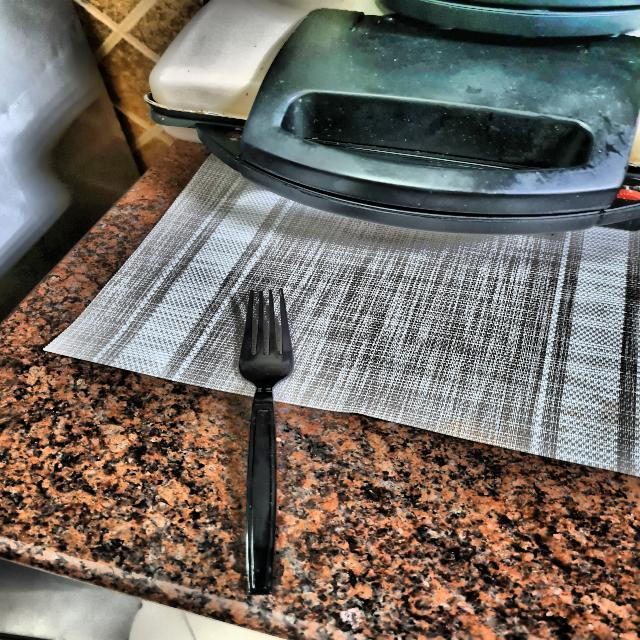plastic utensil: (216, 286, 300, 591)
